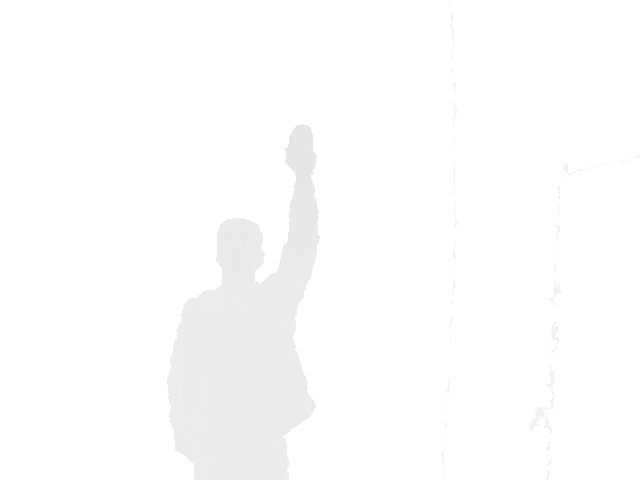hand: (283, 123, 319, 175)
head: (216, 217, 265, 287)
person: (166, 123, 321, 480)
